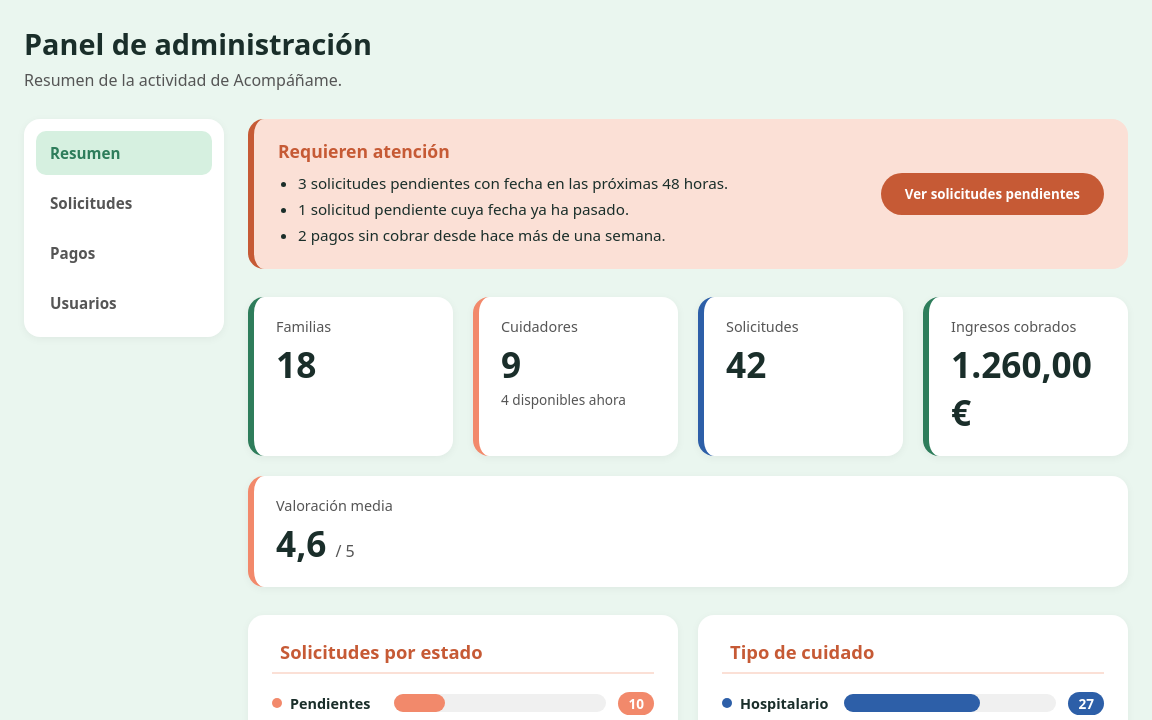
it: AdminView › la sección Pagos muestra las tarjetas, los gráficos y la tabla de detalle
Click the button with class "admin-menu__boton" showing "Pagos" at [124, 253], box [36, 231, 212, 275]
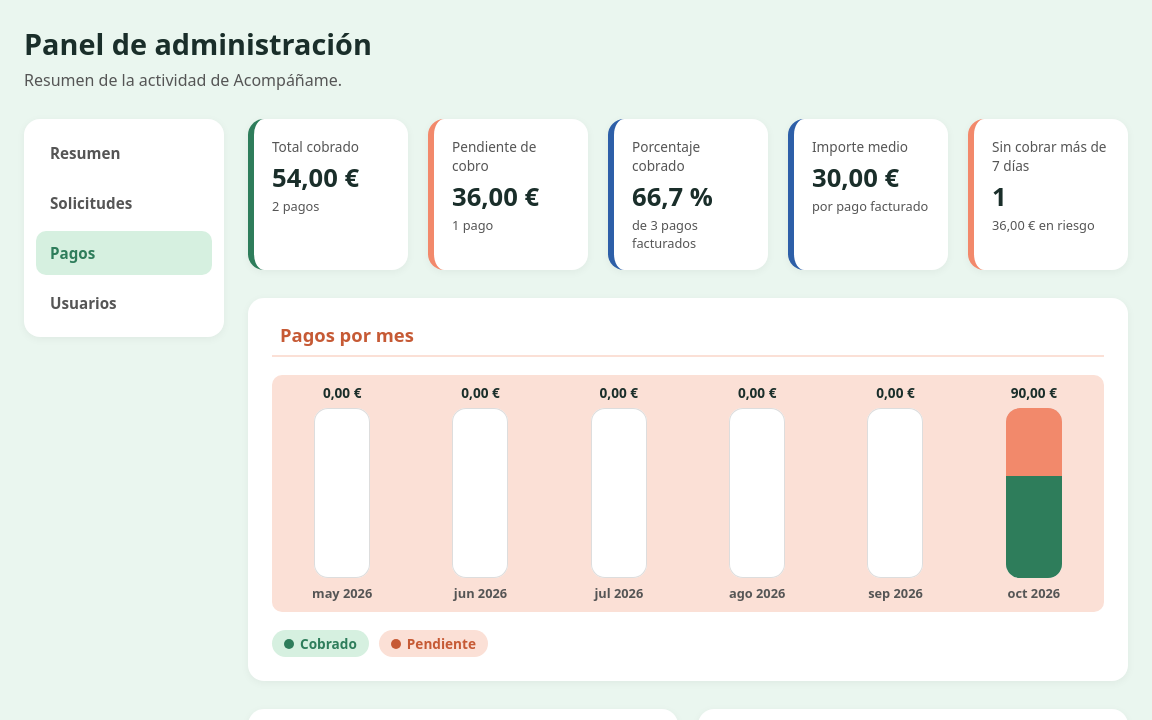
Expected: the text "Total cobrado" is shown, [272, 137, 359, 156]
Expected: the text "66,7 %" is shown, [632, 179, 713, 214]
Expected: the text "Pagos por mes" is shown, [272, 322, 1104, 357]
